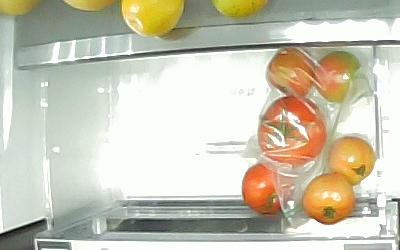tomato: (241, 160, 296, 215), (300, 171, 355, 225), (325, 134, 375, 185)
tomato_vinyl: (257, 95, 325, 164), (266, 46, 315, 98), (313, 49, 361, 102)
